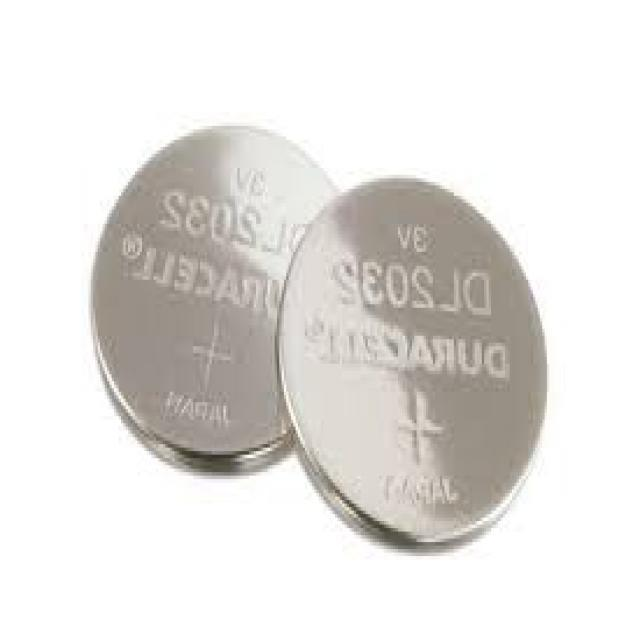battery: (274, 175, 550, 549), (84, 125, 337, 473)
